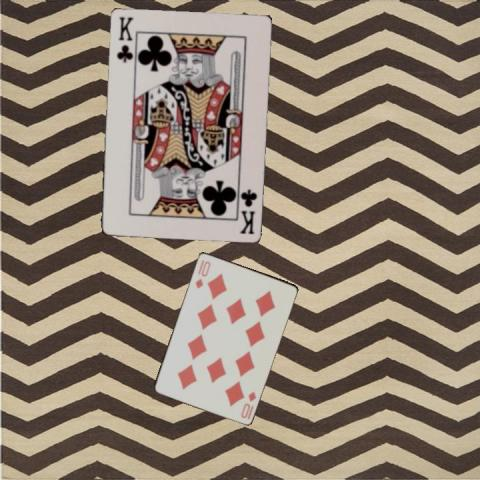10d: (192, 258, 212, 290), (238, 389, 257, 419)
Kc: (113, 13, 134, 64), (237, 186, 258, 235)
